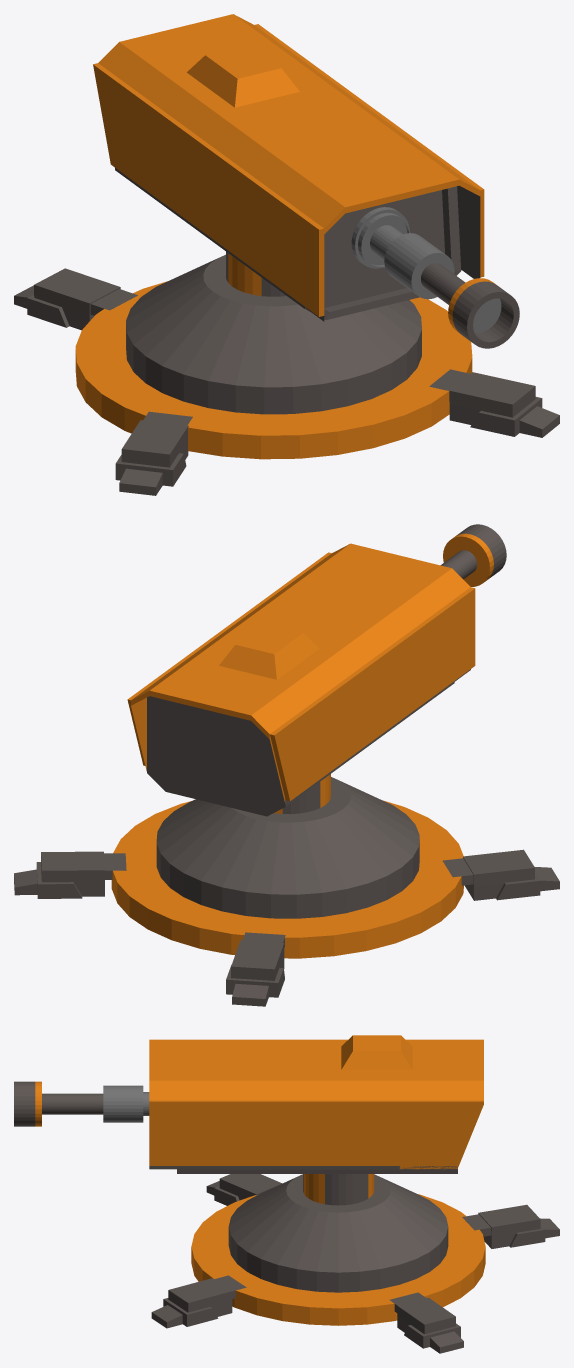
The model's file is turret.fbx.
The picture shows the model from 3 angles, top to bottom: view 1: azimuth 30°, elevation 25°; view 2: azimuth 150°, elevation 25°; view 3: azimuth 270°, elevation 25°; orthographic projection. The views are drawn at different scales.
Visible parts, largest first — view 1: Cube.004, Cylinder, Cylinder.001, Cube.002, Cube.001, Cube; view 2: Cube.004, Cylinder, Cube.003, Cube.001, Cube, Cylinder.001; view 3: Cube.004, Cylinder, Cylinder.001, Cube.002, Cube.003, Cube, Cube.001.
Part boxes in pixels (bbox=[...]): Cube.004: bbox=[93, 14, 484, 321]; Cylinder: bbox=[75, 251, 472, 459]; Cylinder.001: bbox=[351, 207, 519, 348]; Cube.002: bbox=[429, 369, 559, 437]; Cube.001: bbox=[115, 411, 192, 495]; Cube: bbox=[14, 268, 137, 330]; Cube.004: bbox=[127, 543, 475, 816]; Cylinder: bbox=[111, 774, 463, 958]; Cube.003: bbox=[14, 851, 126, 898]; Cube.001: bbox=[443, 849, 559, 900]; Cube: bbox=[226, 932, 285, 1006]; Cylinder.001: bbox=[440, 524, 506, 586]; Cube.004: bbox=[149, 1035, 483, 1173]; Cylinder: bbox=[191, 1174, 485, 1325]; Cylinder.001: bbox=[14, 1081, 149, 1126]; Cube.002: bbox=[151, 1275, 246, 1328]; Cube.003: bbox=[389, 1292, 463, 1353]; Cube: bbox=[462, 1204, 559, 1248]; Cube.001: bbox=[206, 1174, 282, 1205].
Bounding box in the file's own units: 587 × 359 × 799.
